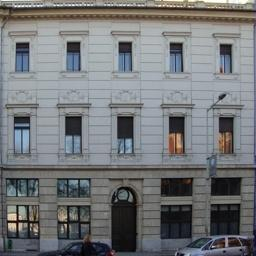building: (0, 0, 256, 241)
